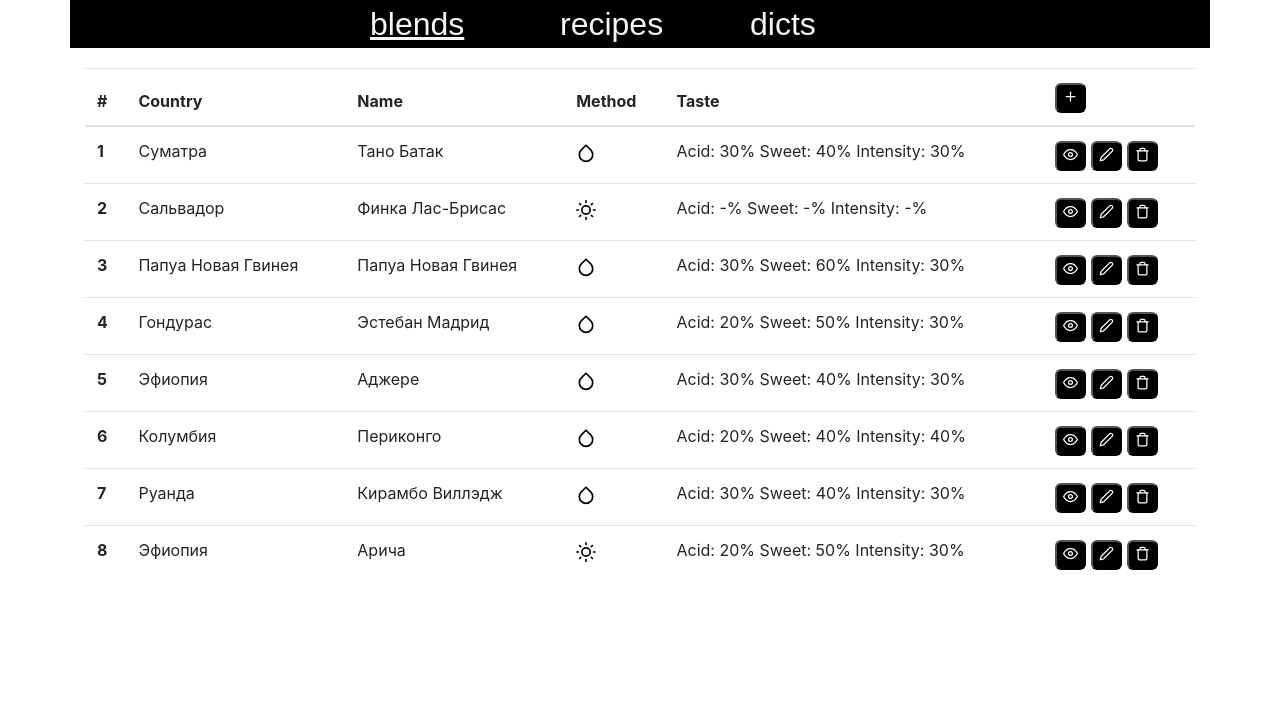
it: blends page spec › blends add value spec › should add a new value
The width and height of the screenshot is (1280, 720).
Click the button with test id "add_btn": [1071, 98] box [1055,83,1086,113]
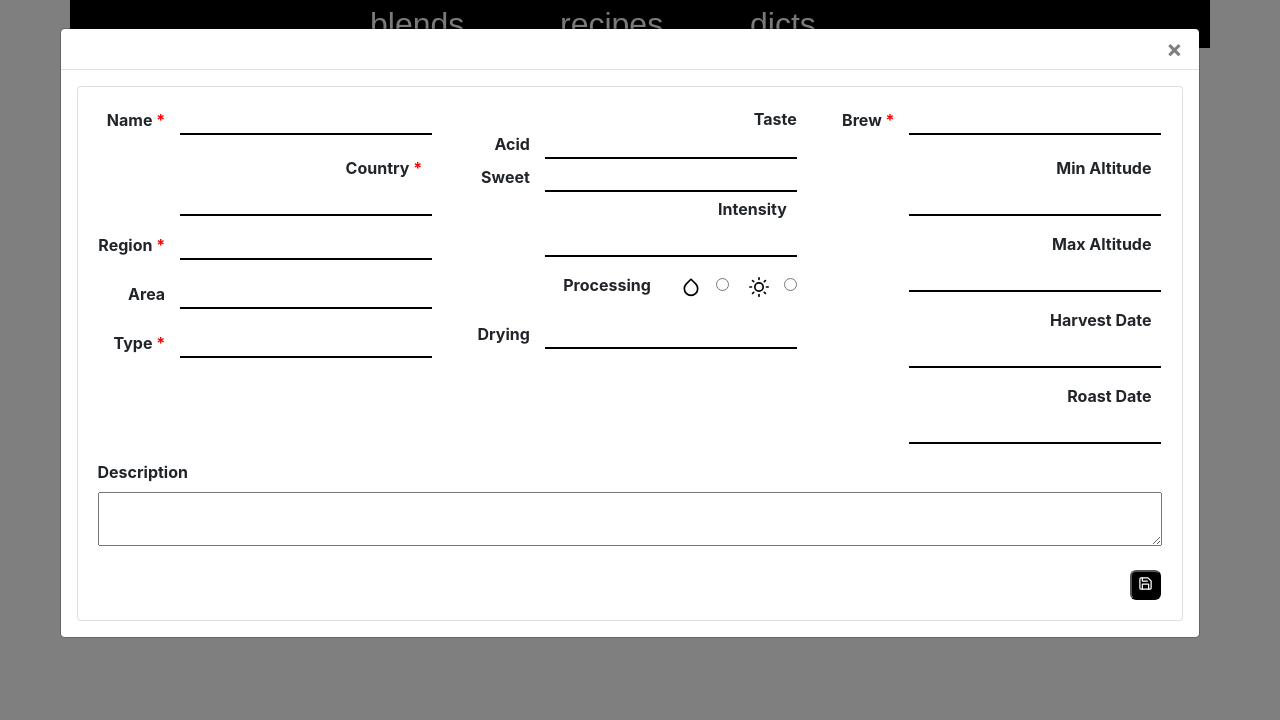
In the 1st field named "name": [306, 121] box [180,107,432,135], type "test-name"
In the 3rd field named "country": [306, 202] box [180,188,432,216], type "test-country"
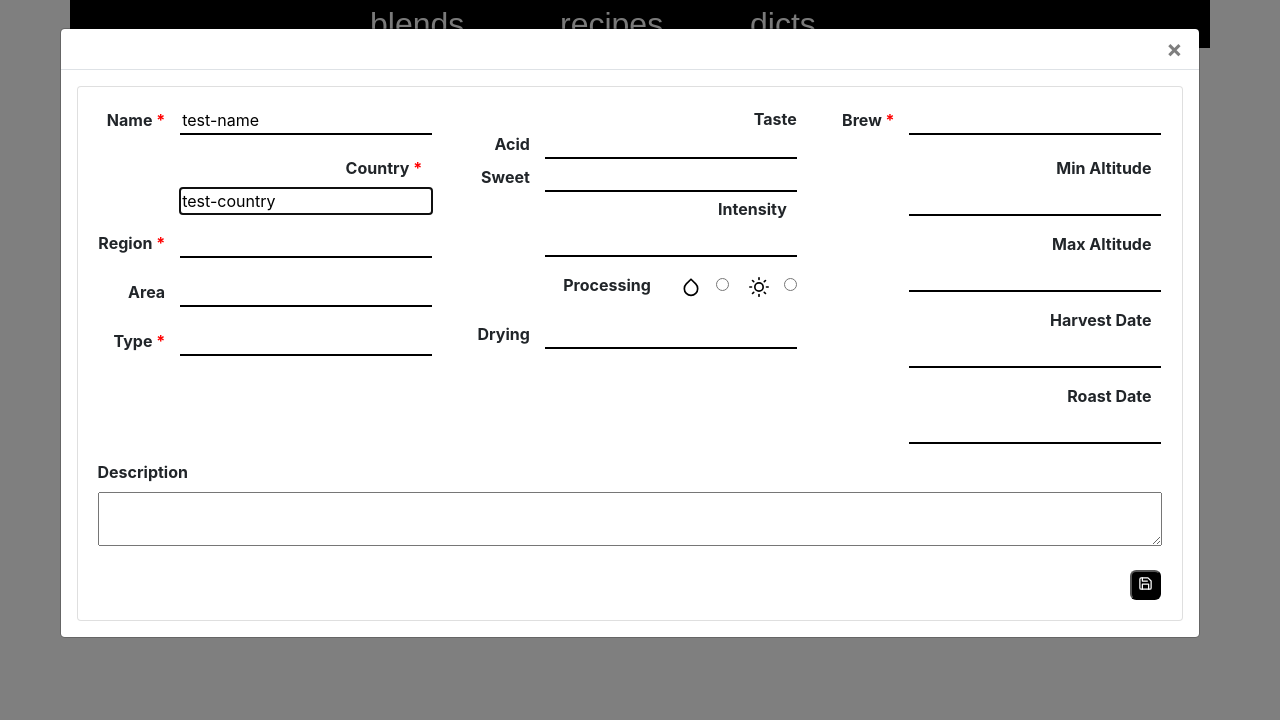
In the field named "region" next to "Region": [306, 244] box [180,230,432,258], type "test-region"
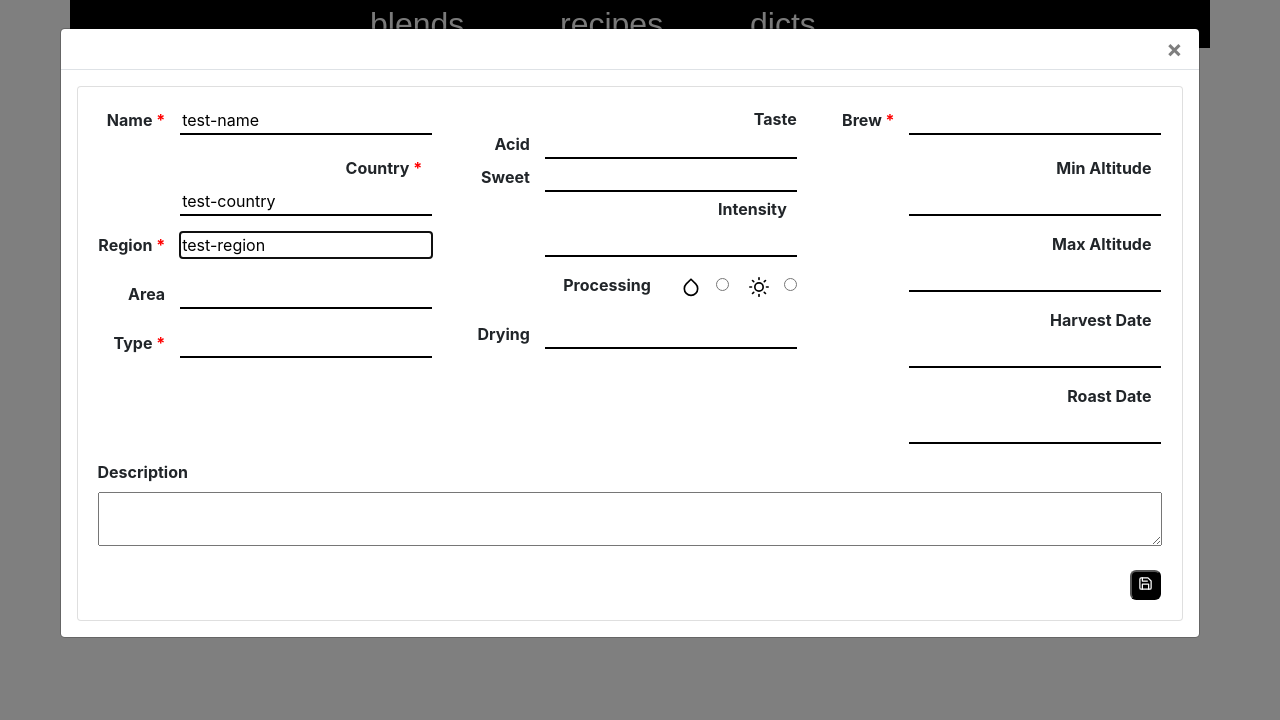
In the field named "type" next to "Type": [306, 344] box [180,330,432,358], type "test-type"
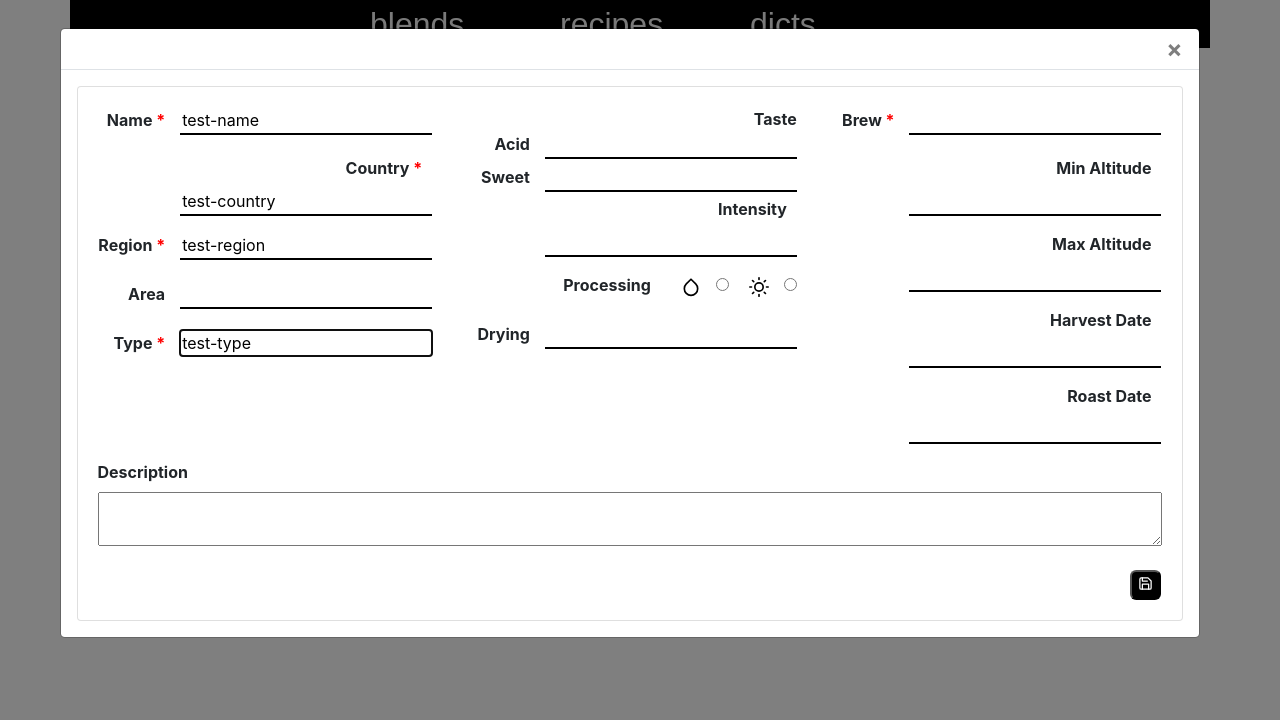
In the field named "brew" next to "Brew": [1036, 121] box [910,107,1162,135], type "test-brew"
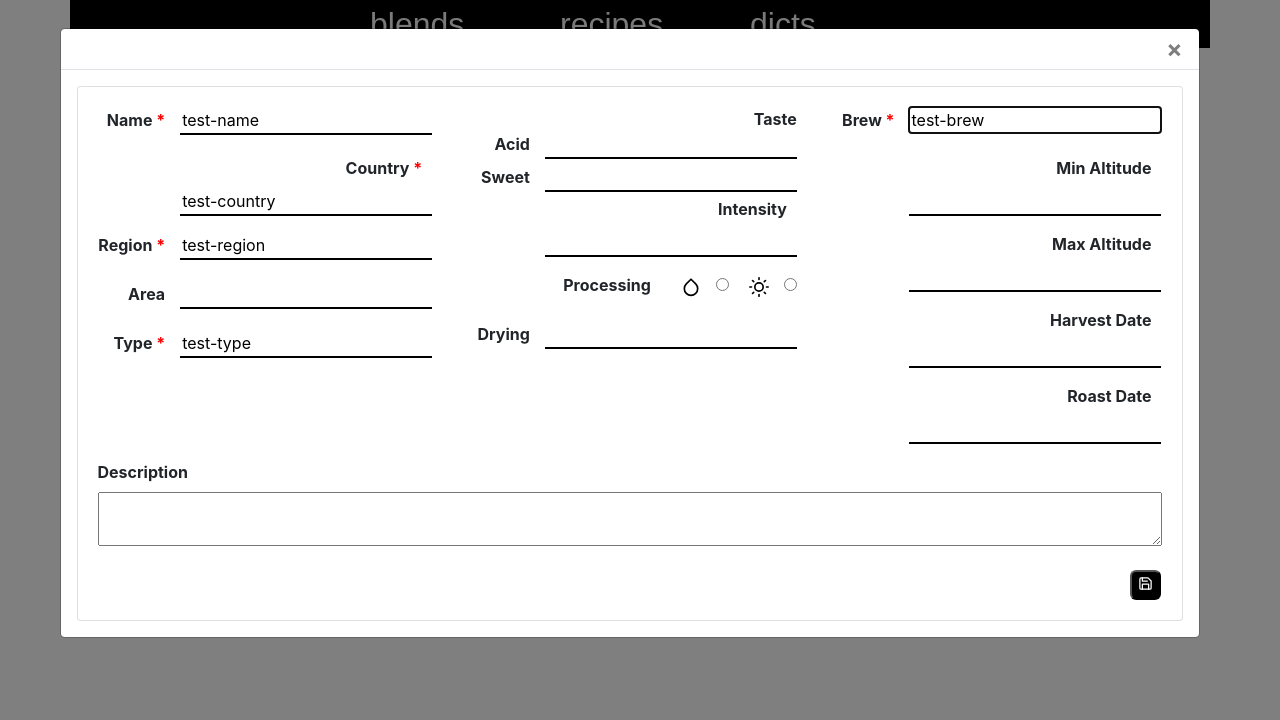
Click the button with test id "button_submit": [1147, 585] box [1131,570,1162,600]
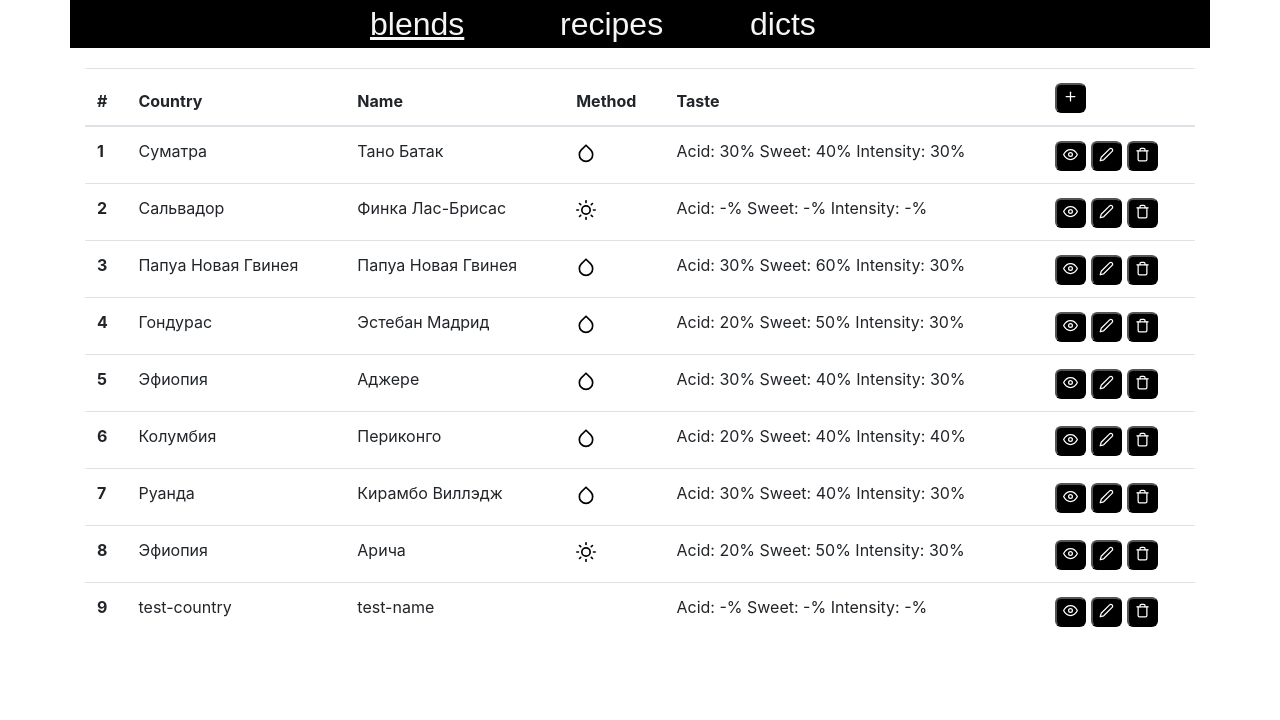
Expected: the dialog with class "modal" is gone
Expected: the cell "test-country" is shown, [126,582,345,639]
Expected: the cell "test-name" is shown, [345,582,564,639]
